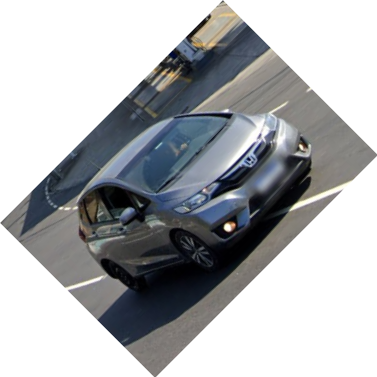car: (77, 113, 312, 292)
